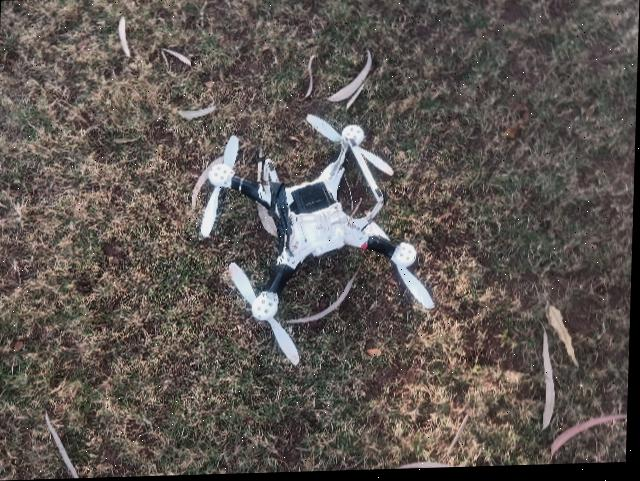drone: (175, 121, 481, 375)
